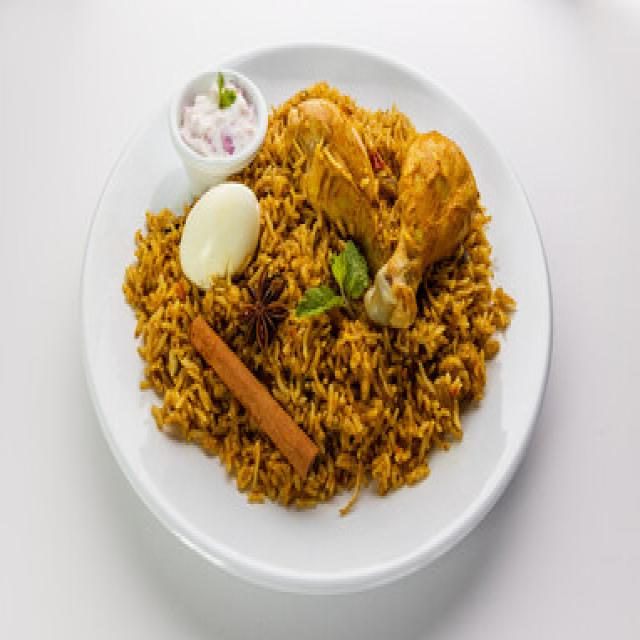BIRIYANI: (122, 77, 522, 519)
CURD: (179, 82, 253, 168)
EGG: (181, 181, 264, 290)
